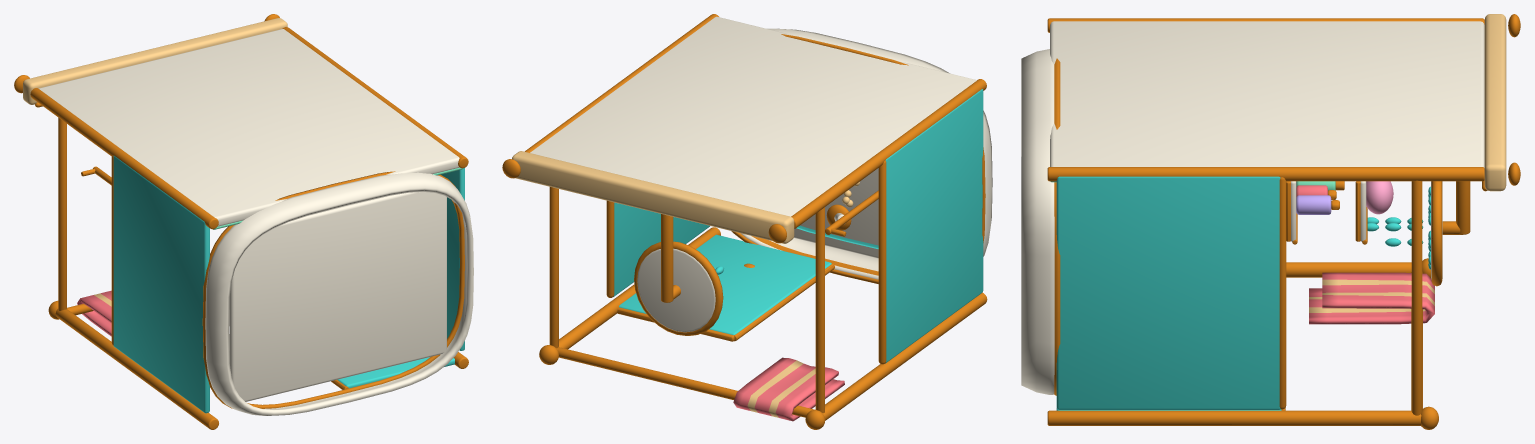
The model's file is BathroomShower_Premium.fbx.
3 views of the same model, side by side, from view 1: azimuth 30°, elevation 25°; view 2: azimuth 150°, elevation 25°; view 3: azimuth 270°, elevation 25° (orthographic). The views are drawn at different scales.
Parts seen in each view (by area): view 1: BathroomShower; view 2: BathroomShower; view 3: BathroomShower.
Boxes of the visible parts, x1,y1,x2,y2 form: BathroomShower: (14,14,473,429); BathroomShower: (502,14,992,429); BathroomShower: (1021,14,1520,429).
Size of the model in its own units: 1.66 by 1.3 by 2.22.
